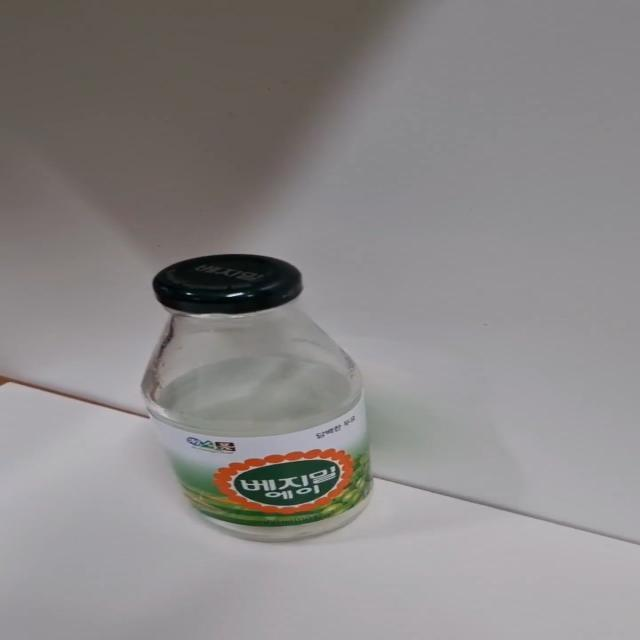Glass: (114, 254, 374, 545)
